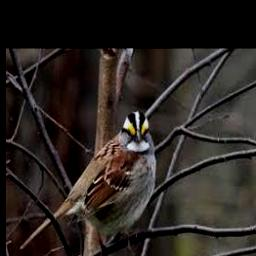Sparrow: (20, 111, 156, 252)
